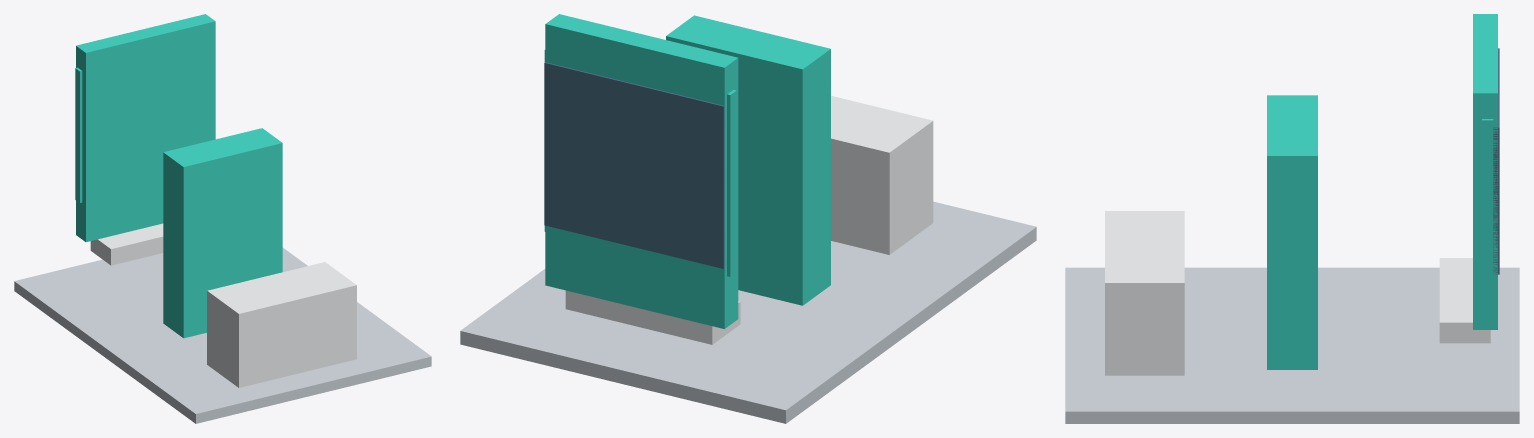
3 views of the same model, side by side, from view 1: azimuth 30°, elevation 25°; view 2: azimuth 150°, elevation 25°; view 3: azimuth 270°, elevation 25° (orthographic). The views are drawn at different scales.
Visible parts, largest first — view 1: Exhibition Booth Concept; view 2: Exhibition Booth Concept; view 3: Exhibition Booth Concept.
Part boxes in pixels (x1,y1,x2,y2): Exhibition Booth Concept: [14, 14, 431, 423]; Exhibition Booth Concept: [460, 14, 1036, 423]; Exhibition Booth Concept: [1065, 14, 1519, 423].
Size of the model in its own units: 3 by 2.9 by 4.
